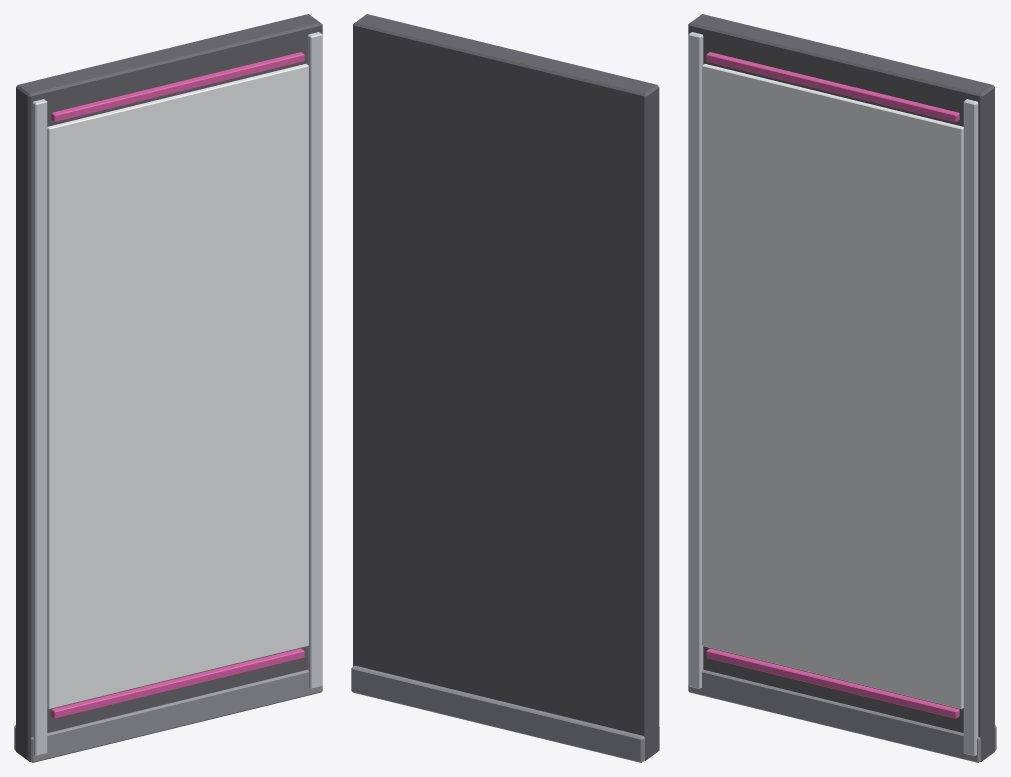
The model's file is nightclub-and-dj-booth-mirror-wall-panel-module-c89563fc__34113.glb.
The picture shows the model from 3 angles, left to right: view 1: azimuth 30°, elevation 25°; view 2: azimuth 150°, elevation 25°; view 3: azimuth 330°, elevation 25°; orthographic projection.
Visible parts, largest first — view 1: mirror-wall-panel-module; view 2: mirror-wall-panel-module; view 3: mirror-wall-panel-module.
Boxes of the visible parts, x1,y1,x2,y2 form: mirror-wall-panel-module: (14,14,322,762); mirror-wall-panel-module: (351,14,659,762); mirror-wall-panel-module: (688,14,996,762).
Size of the model in its own units: 1.2 by 2.6 by 0.145.
